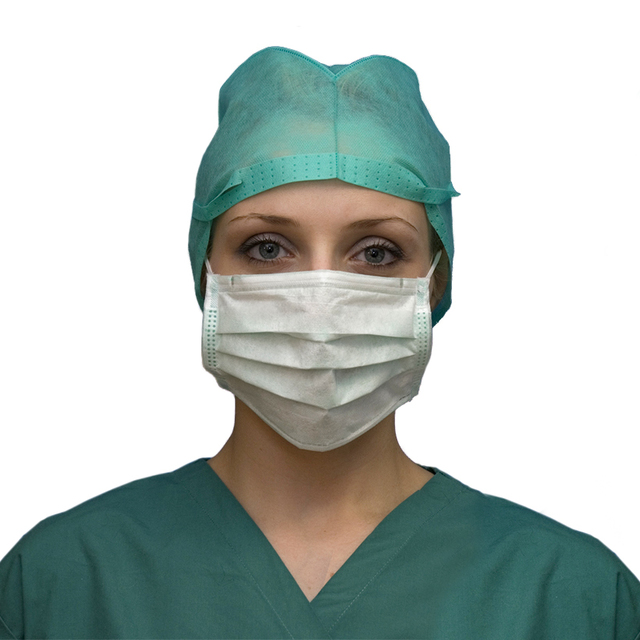mask: (197, 279, 437, 452)
